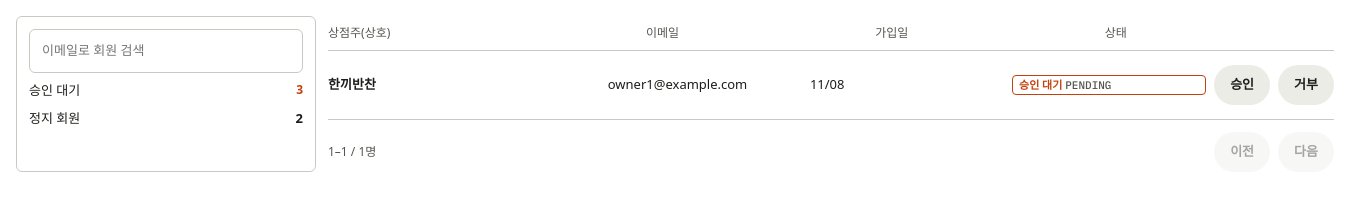
Test case: ApprovalsPanel (M1) › 승인 실패 문구를 보인다
Click the button with aria-label "한끼반찬 승인" at (1242, 85), box [1214,65,1270,105]
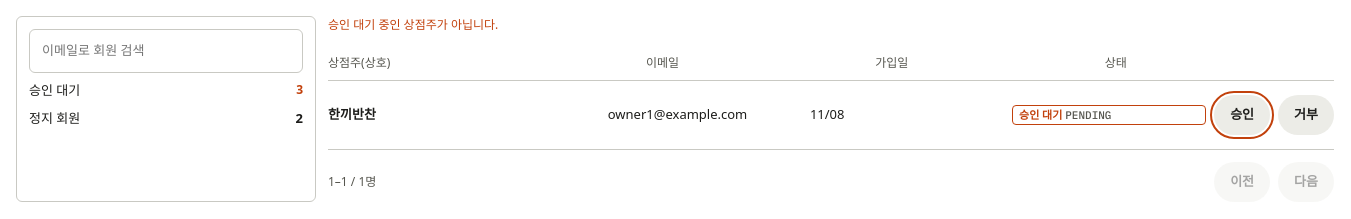
Result: the text "승인 대기 중인 상점주가 아닙니다." is shown at [328,16,498,33]
